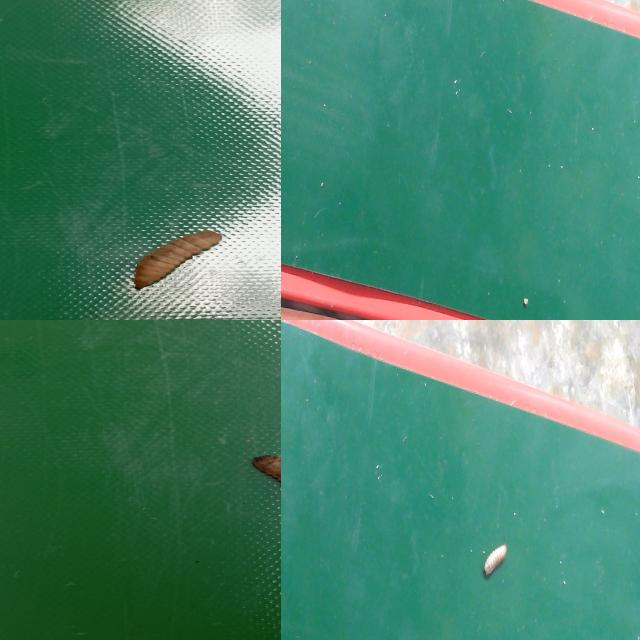Maggot: (132, 230, 222, 291), (251, 455, 281, 490), (483, 545, 510, 578)
